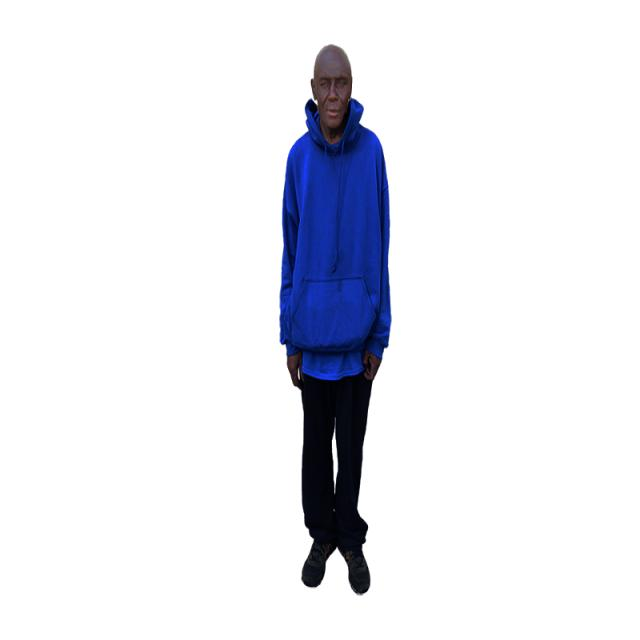jovem: (271, 35, 406, 591)
